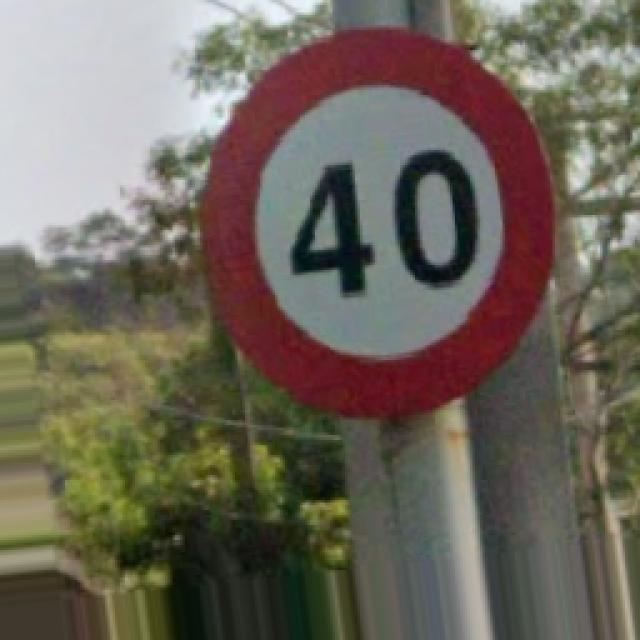Speed Limit -40-: (202, 28, 552, 415)
